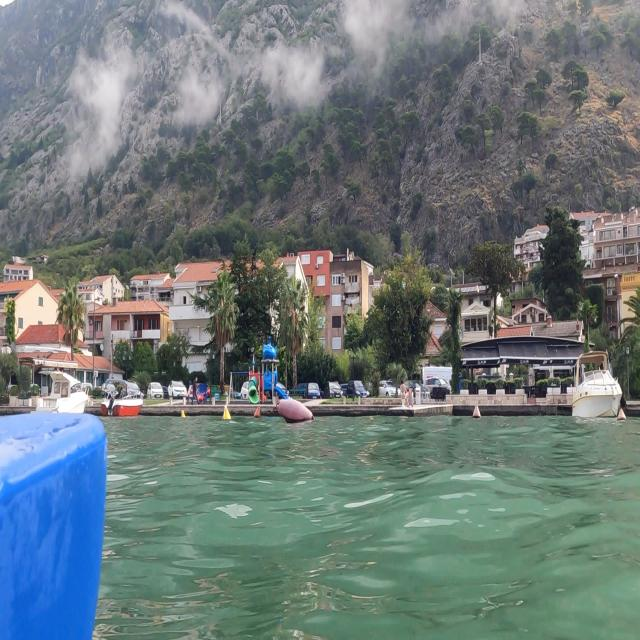boat: (569, 346, 624, 422)
buoy: (274, 389, 320, 433)
